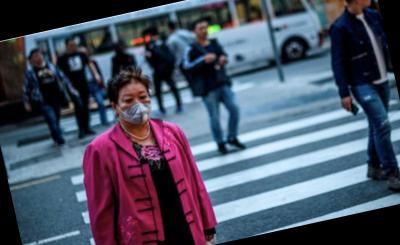with_mask: (117, 86, 156, 129)
without_mask: (196, 23, 211, 39), (32, 52, 45, 65), (67, 40, 79, 53)
